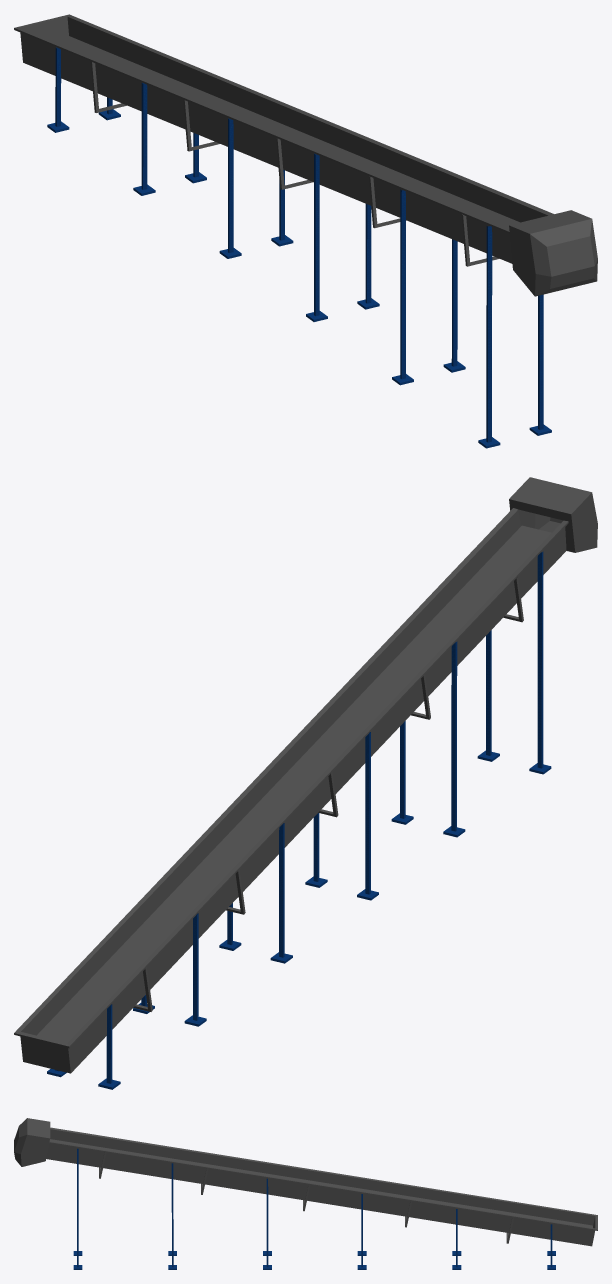
Rendered from canal_banda_002.FBX.
3 renders of one model, top to bottom at view 1: azimuth 30°, elevation 25°; view 2: azimuth 150°, elevation 25°; view 3: azimuth 270°, elevation 25°, orthographic. The views are drawn at different scales.
Visible parts, largest first — view 1: canal-banda transportadora002, soportes-banda002, Object155; view 2: canal-banda transportadora002, soportes-banda002, Object155; view 3: canal-banda transportadora002, soportes-banda002, Object155.
Boxes of the visible parts, x1,y1,x2,y2 form: canal-banda transportadora002: (14,14,597,296); soportes-banda002: (47,47,551,448); Object155: (90,61,499,266); canal-banda transportadora002: (14,477,597,1073); soportes-banda002: (47,551,551,1089); Object155: (133,577,523,1011); canal-banda transportadora002: (14,1118,597,1246); soportes-banda002: (73,1148,555,1269); Object155: (99,1152,513,1243).
Size of the model in its own units: 67.51 by 241 by 947.
